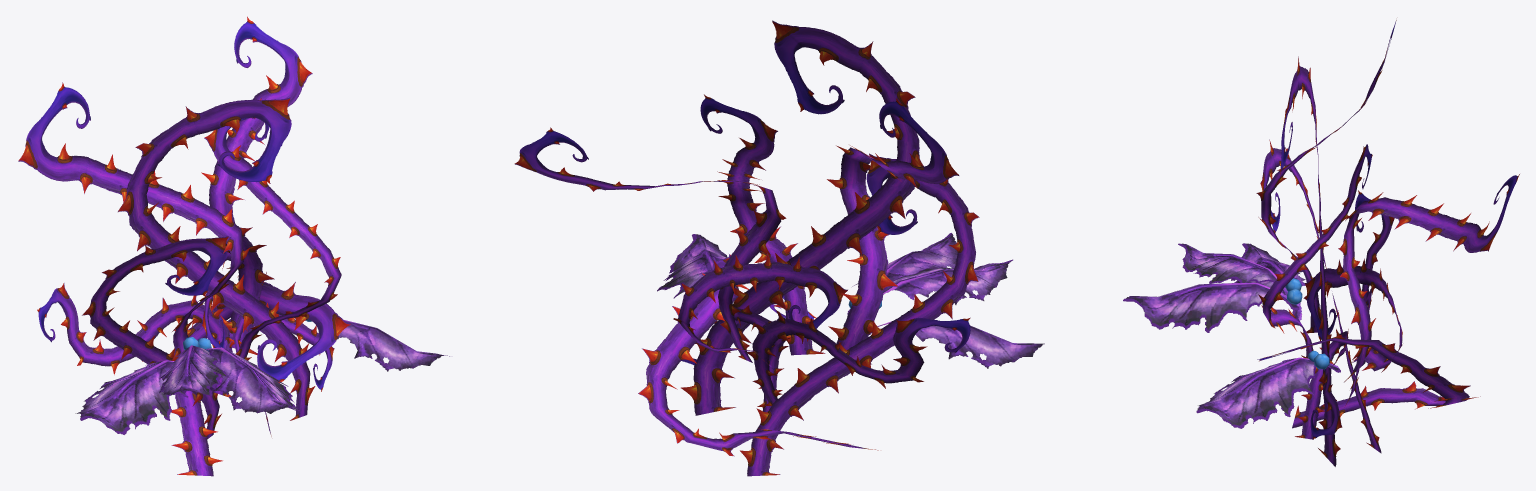
Rendered from vines01.obj.
The picture shows the model from 3 angles, left to right: view 1: azimuth 30°, elevation 25°; view 2: azimuth 150°, elevation 25°; view 3: azimuth 270°, elevation 25°; orthographic projection. The views are drawn at different scales.
Visible parts, largest first — view 1: vines01; view 2: vines01; view 3: vines01.
Part boxes in pixels (left/top/right/bottom): vines01: left=18, top=16, right=449, bottom=476; vines01: left=514, top=20, right=1044, bottom=476; vines01: left=1123, top=20, right=1519, bottom=466.
Bounding box in the file's own units: 260 × 233 × 234.
Materials: 1 (1 with a texture image).
